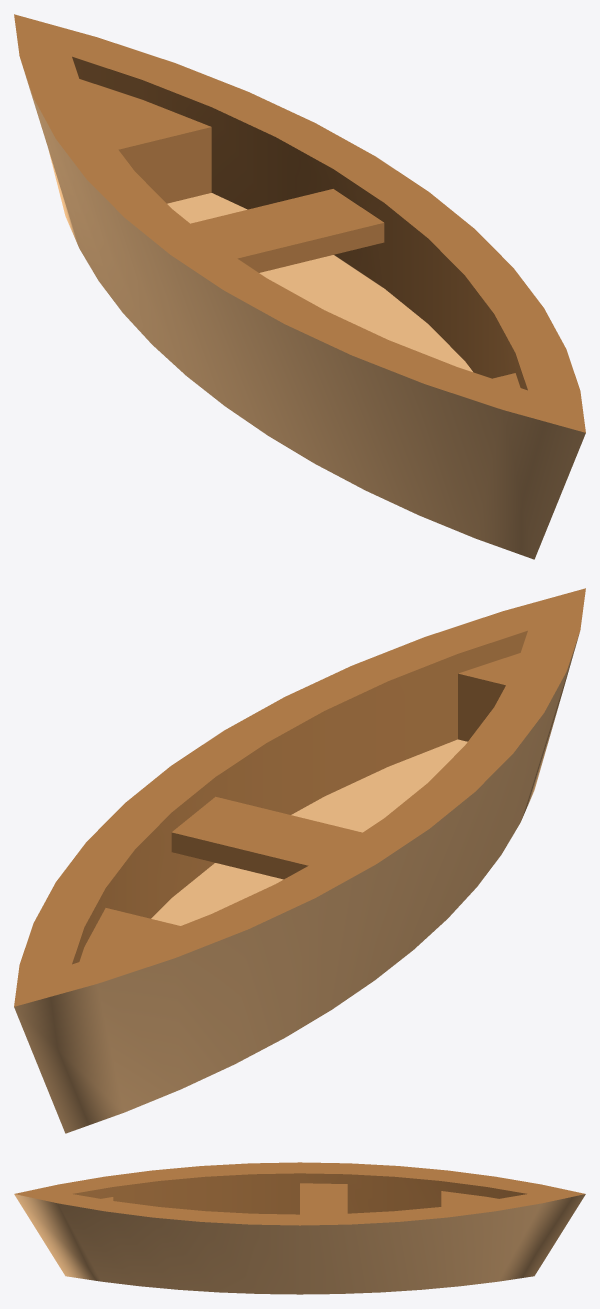
The model's file is canoe.glb.
3 views of the same model, one above another, from view 1: azimuth 30°, elevation 25°; view 2: azimuth 150°, elevation 25°; view 3: azimuth 270°, elevation 25° (orthographic). The views are drawn at different scales.
Visible parts, largest first — view 1: canoe; view 2: canoe; view 3: canoe.
Boxes of the visible parts, x1,y1,x2,y2 form: canoe: (14, 14, 585, 559); canoe: (14, 588, 585, 1133); canoe: (14, 1162, 585, 1294).
Size of the model in its own units: 0.3 by 0.1825 by 1.15.
